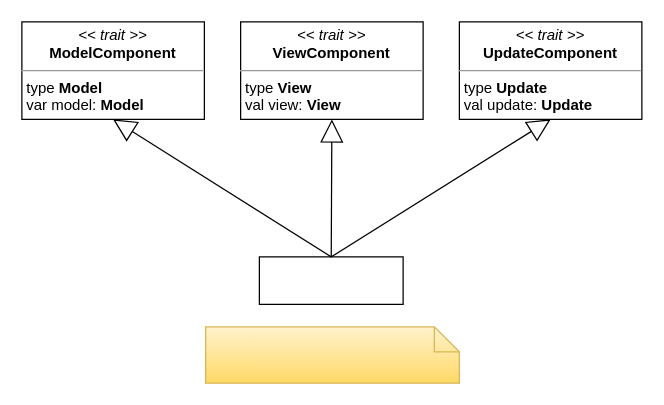
Some shapes in this 664 by 405 pixel diagram are drawn without their labels. The shapes that lost their labels are listed below. From the top down, each one's box as (x1, y1, x2, y2) in pixels, then its label:
(258, 256, 403, 304): << trait >> MVU
(204, 326, 459, 383): Mixed-in with components
